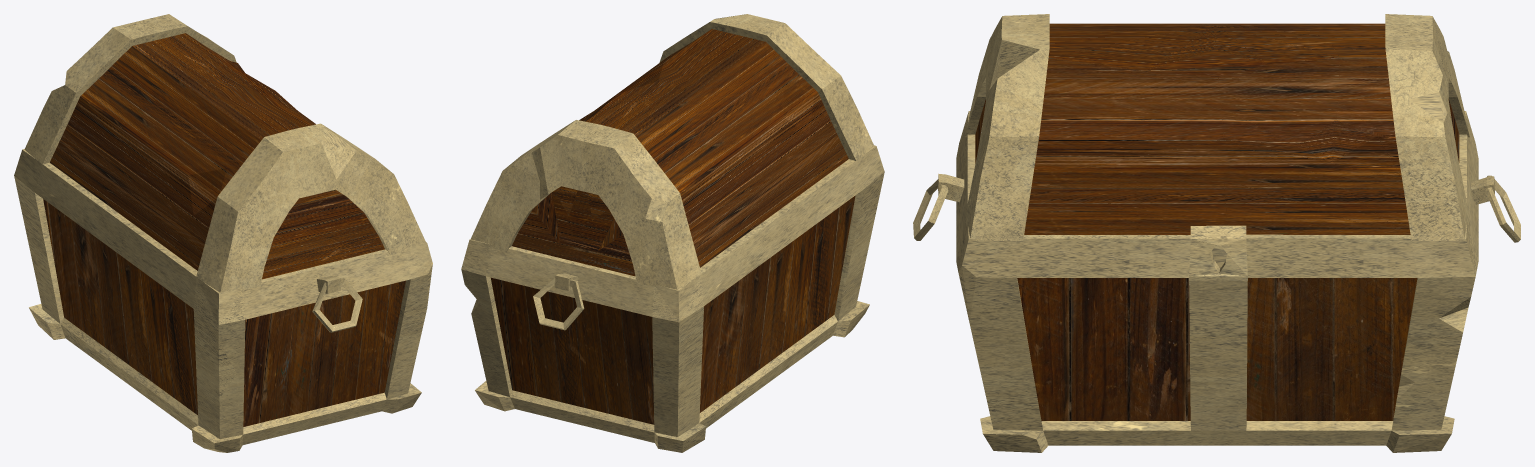
Rendered from ChestWorking.fbx.
3 renders of one model, left to right at view 1: azimuth 30°, elevation 25°; view 2: azimuth 150°, elevation 25°; view 3: azimuth 270°, elevation 25°, orthographic. The views are drawn at different scales.
Visible parts, largest first — view 1: ChestBase, ChestLid, pasted__pasted__pTorus1; view 2: ChestBase, ChestLid, pasted__pTorus1; view 3: ChestBase, ChestLid, pasted__pasted__pTorus1, pasted__pTorus1.
Part boxes in pixels (x1,y1,x2,y2): ChestBase: (14,149,432,452); ChestLid: (24,14,425,292); pasted__pasted__pTorus1: (312,275,362,332); ChestBase: (461,145,884,452); ChestLid: (471,14,873,289); pasted__pTorus1: (533,273,584,330); ChestBase: (956,111,1478,452); ChestLid: (965,14,1469,240); pasted__pasted__pTorus1: (913,173,964,240); pasted__pTorus1: (1471,175,1520,242).
Size of the model in its own units: 2.67 by 3.16 by 4.84.
Materials: 5 (4 with a texture image).
